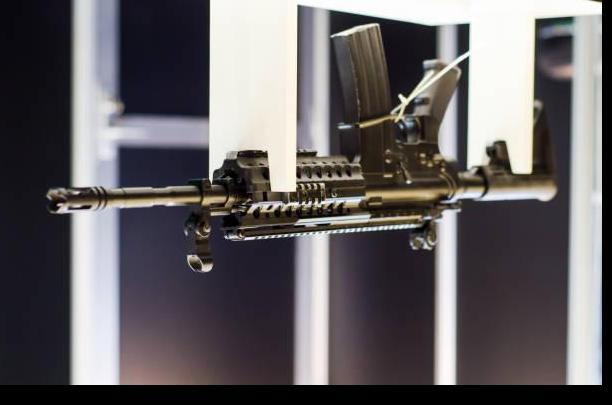larga: (46, 22, 560, 271)
